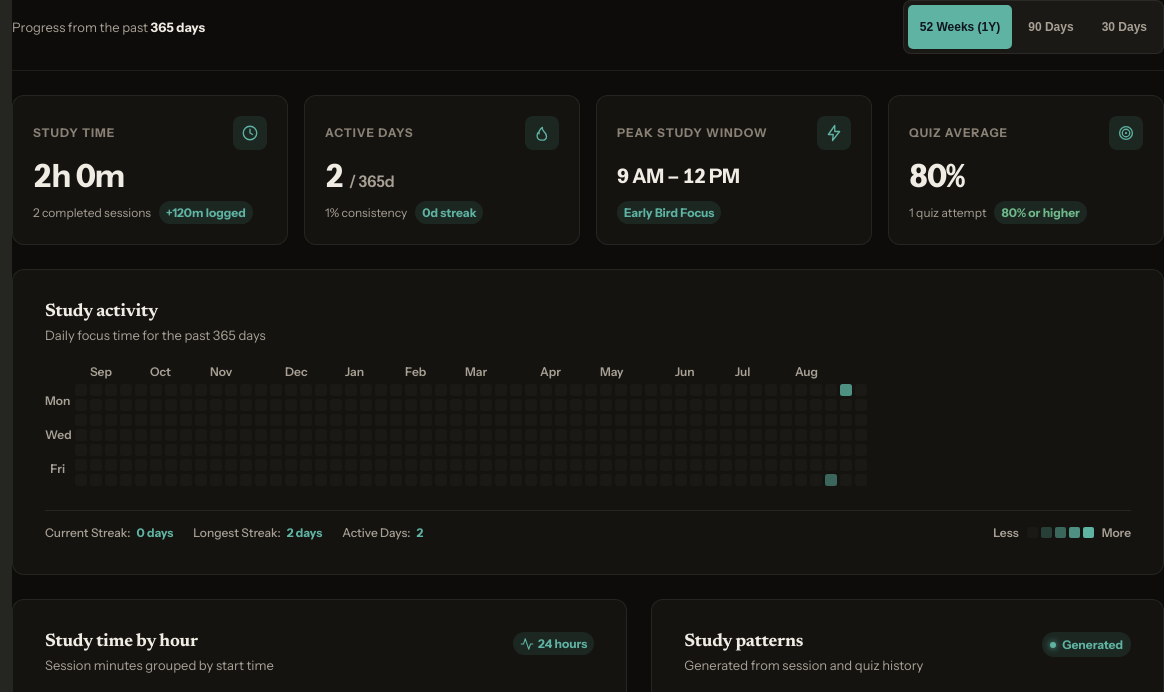
Test: StudyAnalyticsView › switches active date range and updates heatmap subtext and consistency metrics
The width and height of the screenshot is (1164, 692).
expect the text "Daily focus time for the past 365 days" is shown: met, box [45, 325, 266, 346]
expect the text "/ 365d" is shown: met, box [349, 171, 394, 191]
Switch to 90 Days
Click the button "90 Days" at (1051, 27), box [1016, 5, 1086, 49]
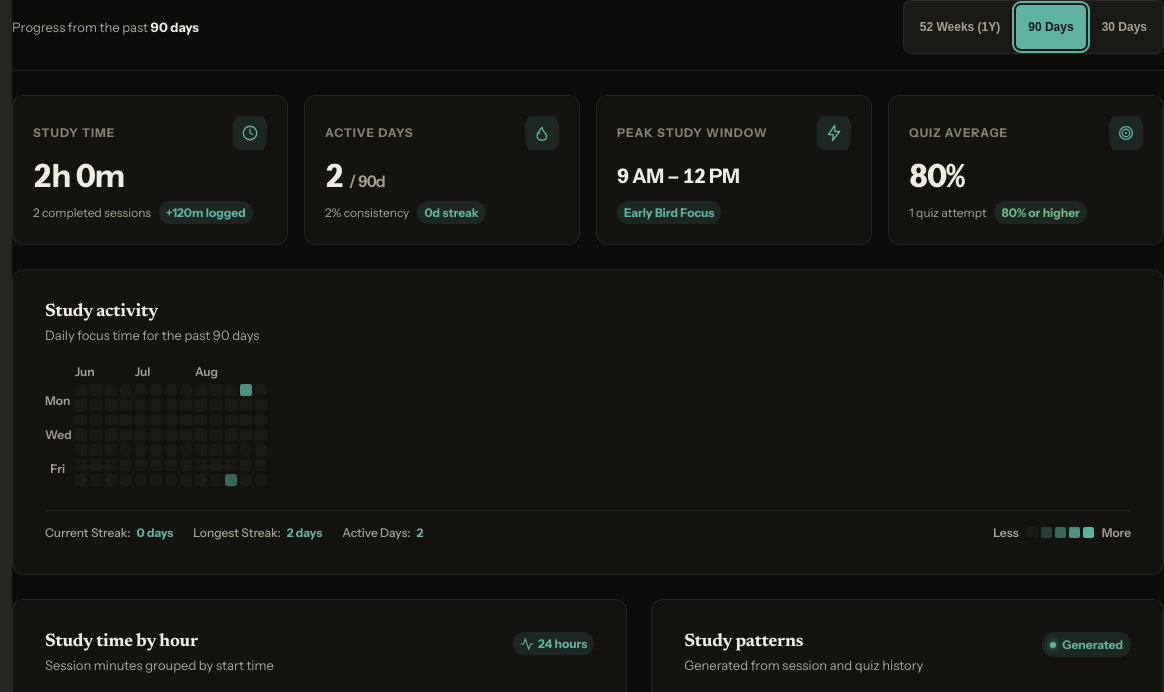
expect the text "Daily focus time for the past 90 days" is shown: met, box [45, 325, 260, 346]
expect the text "/ 90d" is shown: met, box [349, 171, 385, 191]
Switch to 30 Days
Click the button "30 Days" at (1124, 27), box [1090, 5, 1159, 49]
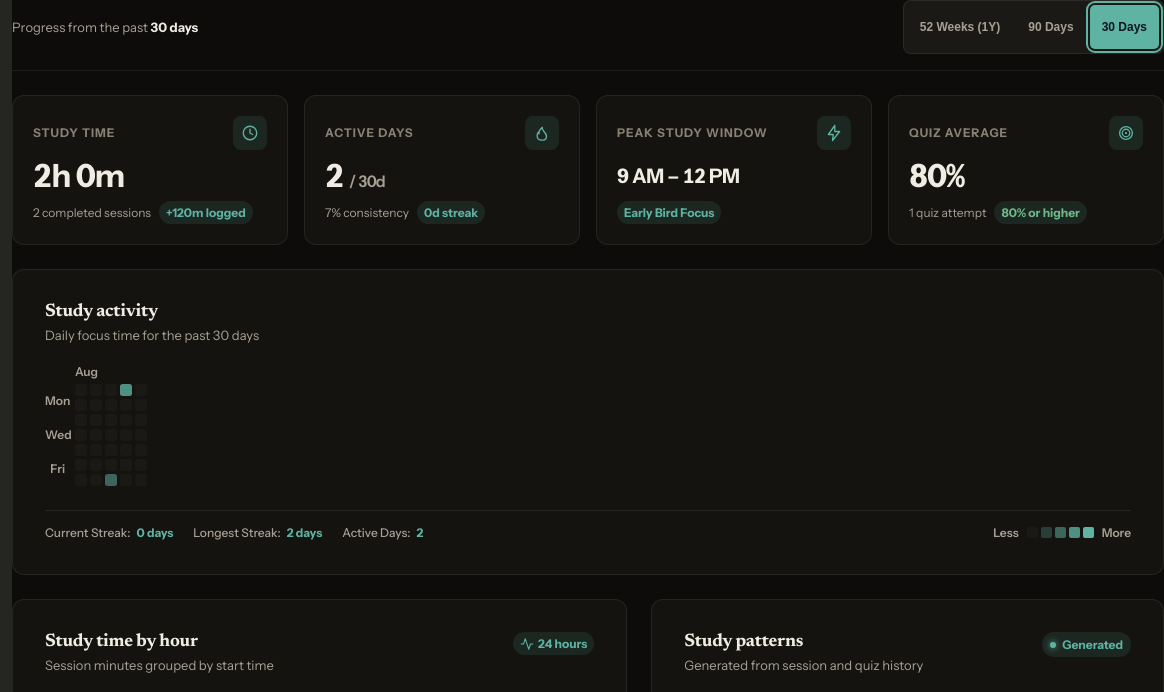
expect the text "Daily focus time for the past 30 days" is shown: met, box [45, 325, 259, 346]
expect the text "/ 30d" is shown: met, box [349, 171, 385, 191]
Switch back to 52 Weeks (1Y)
Click the button "52 Weeks (1Y)" at (960, 27), box [908, 5, 1012, 49]
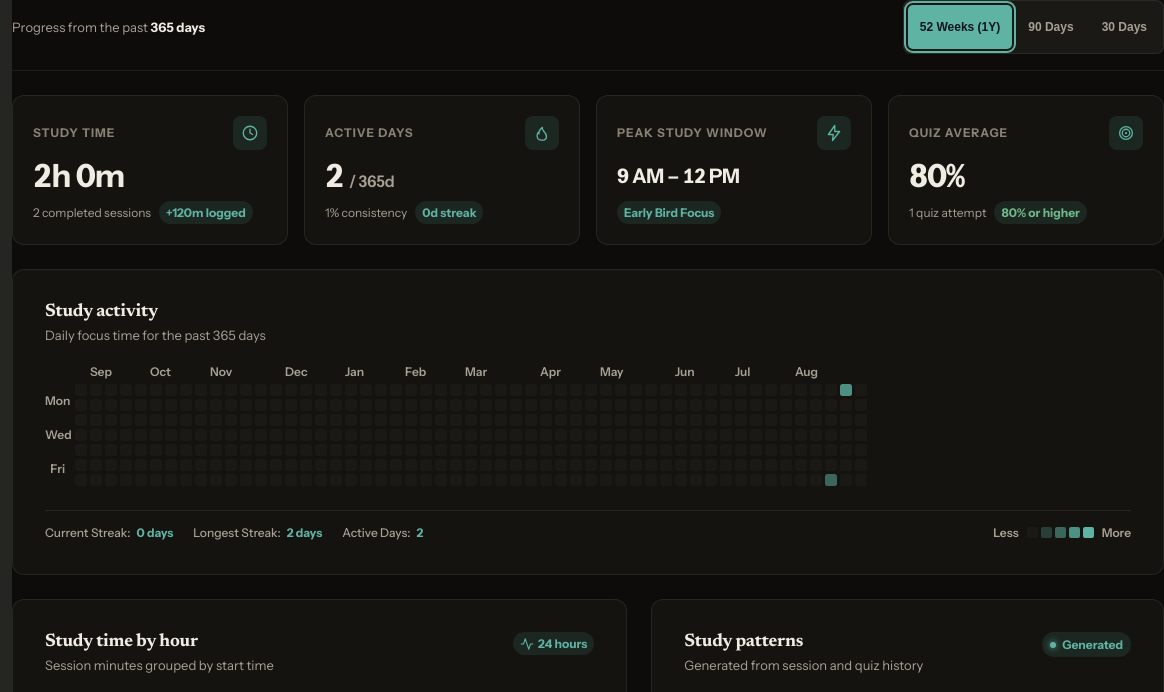
expect the text "Daily focus time for the past 365 days" is shown: met, box [45, 325, 266, 346]
expect the text "/ 365d" is shown: met, box [349, 171, 394, 191]
